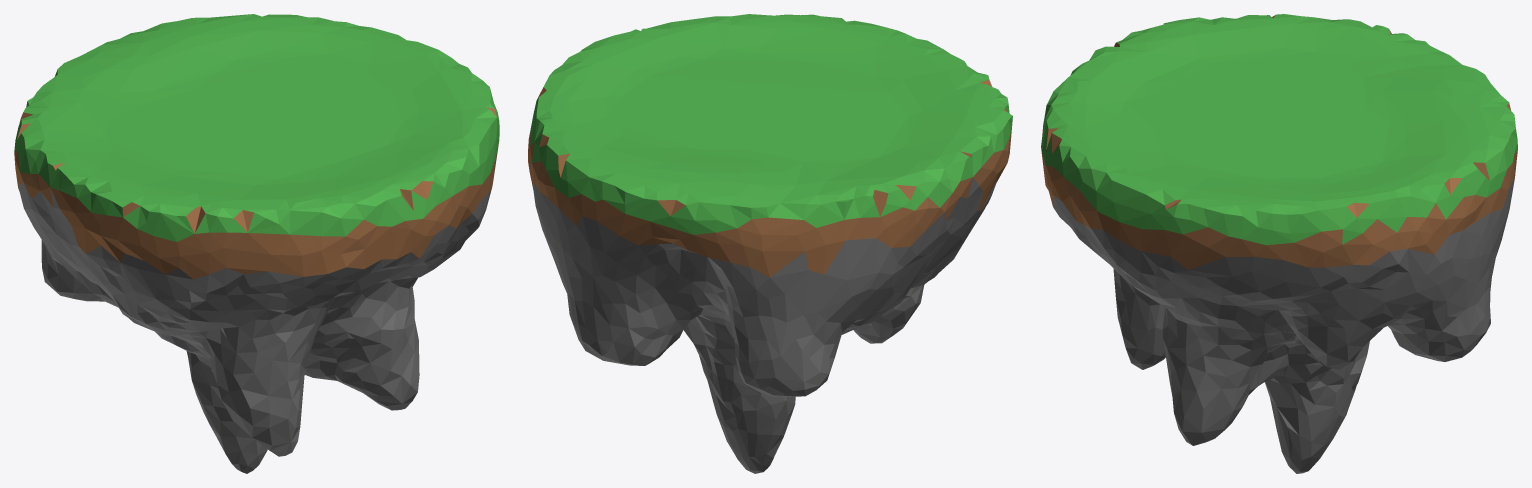
Rendered from SkyIsland.fbx.
3 renders of one model, left to right at view 1: azimuth 30°, elevation 25°; view 2: azimuth 150°, elevation 25°; view 3: azimuth 270°, elevation 25°, orthographic. The views are drawn at different scales.
Parts seen in each view (by area): view 1: Island; view 2: Island; view 3: Island.
Boxes of the visible parts, x1,y1,x2,y2 form: Island: [14, 14, 499, 473]; Island: [528, 14, 1012, 473]; Island: [1041, 14, 1517, 473].
Size of the model in its own units: 3963 by 3314 by 3962.
